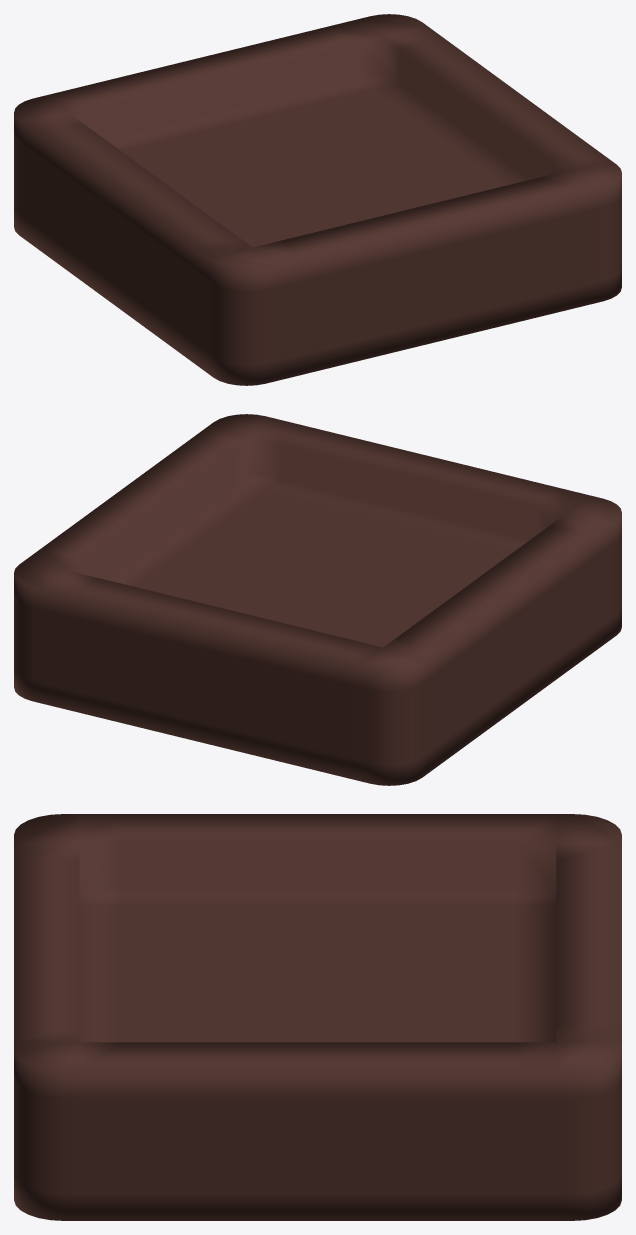
File: Rackrounded.fbx
3 views of the same model, one above another, from view 1: azimuth 30°, elevation 25°; view 2: azimuth 150°, elevation 25°; view 3: azimuth 270°, elevation 25° (orthographic). The views are drawn at different scales.
Parts seen in each view (by area): view 1: Cube.001; view 2: Cube.001; view 3: Cube.001.
Part boxes in pixels (bbox=[...]): Cube.001: bbox=[14, 14, 621, 385]; Cube.001: bbox=[14, 414, 621, 785]; Cube.001: bbox=[14, 814, 621, 1220].
Size of the model in its own units: 73.47 by 73.47 by 20.
